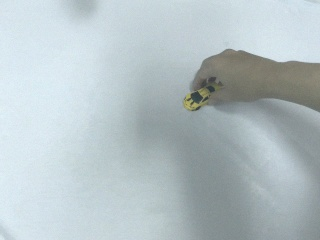toy_car: (181, 84, 219, 111)
